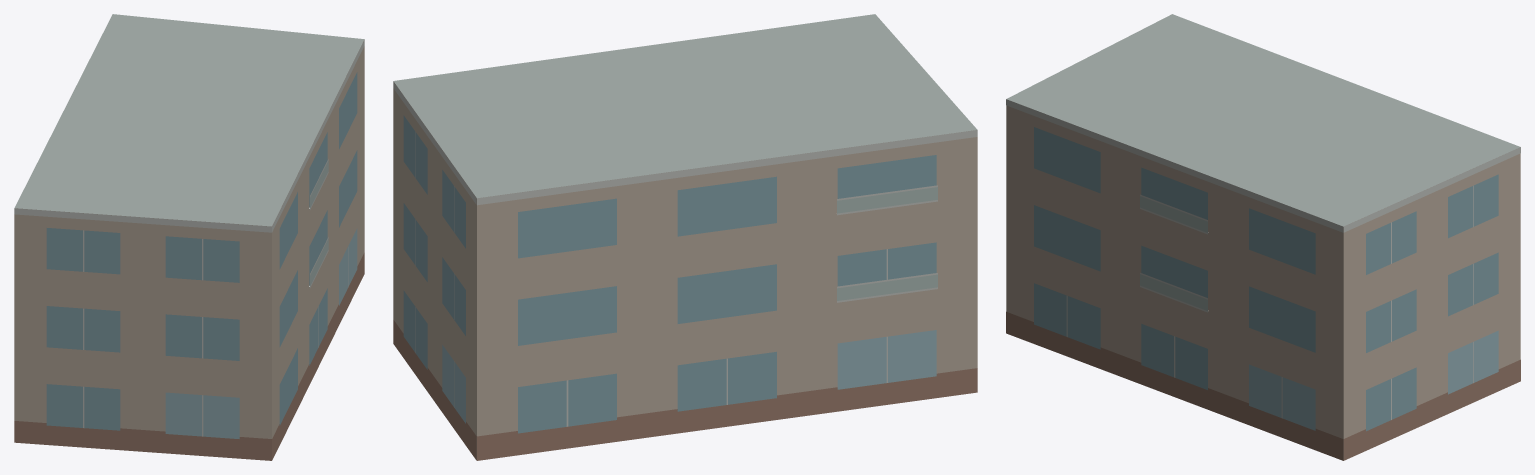
The model's file is survey-upis-32757417.glb.
3 views of the same model, side by side, from view 1: azimuth 30°, elevation 25°; view 2: azimuth 150°, elevation 25°; view 3: azimuth 270°, elevation 25° (orthographic). The views are drawn at different scales.
Visible parts, largest first — view 1: survey-upis-32757417.tmp; view 2: survey-upis-32757417.tmp; view 3: survey-upis-32757417.tmp.
Part boxes in pixels (x1,y1,x2,y2): survey-upis-32757417.tmp: [14, 14, 364, 460]; survey-upis-32757417.tmp: [393, 14, 977, 460]; survey-upis-32757417.tmp: [1006, 14, 1520, 460].
Size of the model in its own units: 17.82 by 9.15 by 18.23.
